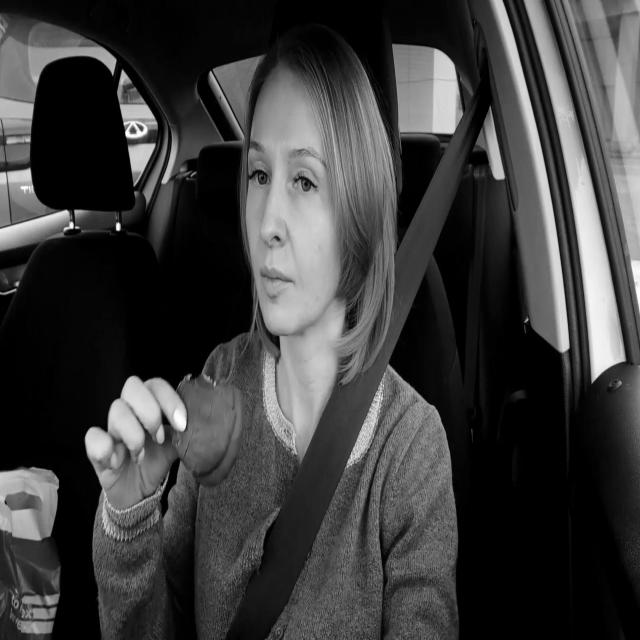Eating: (172, 368, 246, 491)
Seatbelt: (227, 71, 491, 640)
